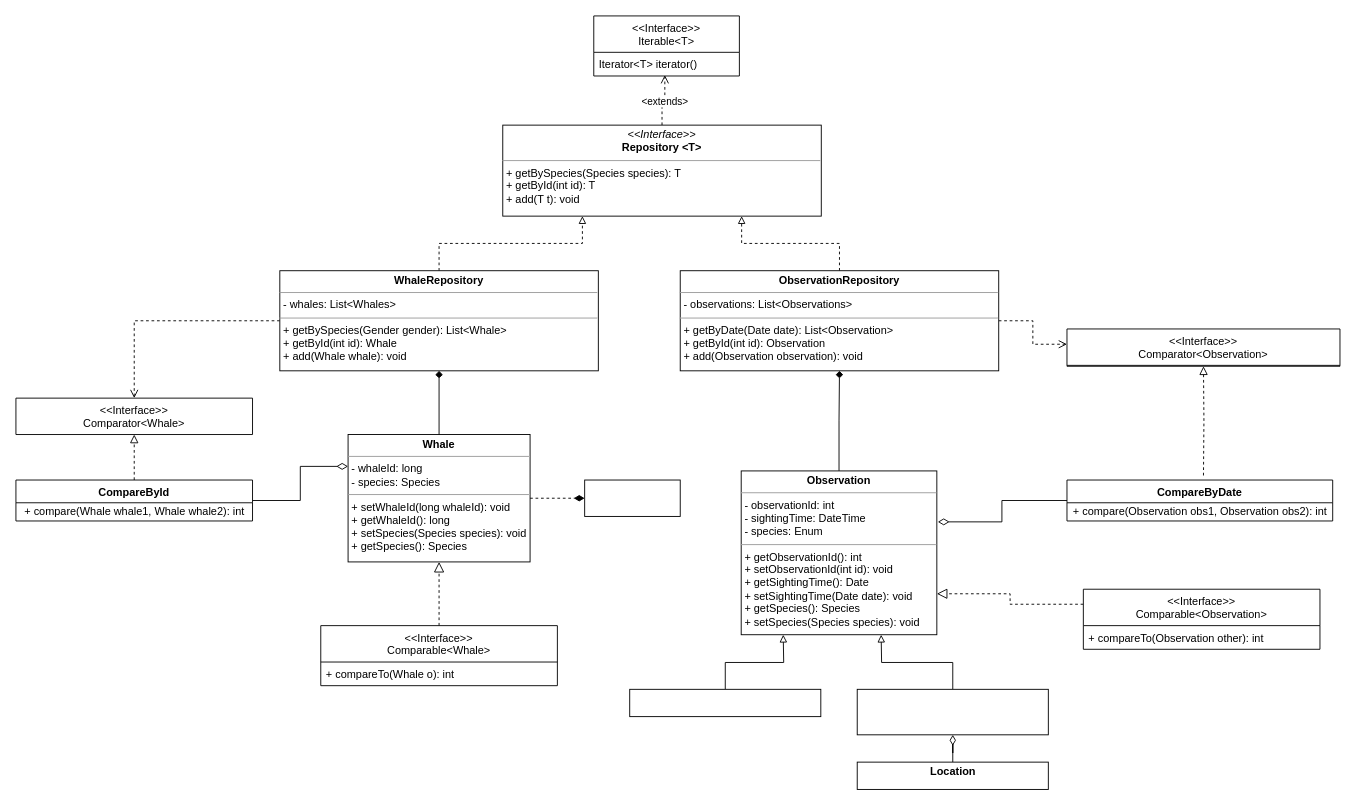
Some shapes in this 1356 by 805 pixel diagram are drawn without their labels. The centre of each missing label's shape, as x and y in pixels:
"LocationObservation - location: Location" belongs at point (952, 711).
"Pod" belongs at point (632, 497).
"SimpleObservation" belongs at point (725, 702).
